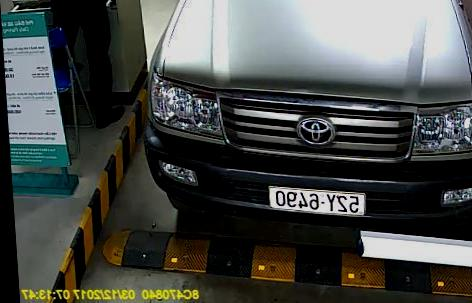License_Plate: (265, 184, 371, 213)
